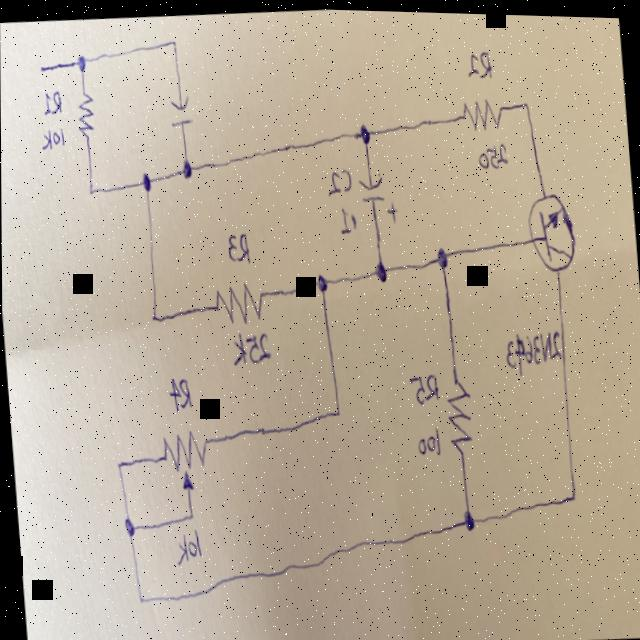capacitor: (355, 166, 398, 223), (164, 88, 194, 131)
junction: (306, 259, 337, 303), (427, 230, 454, 275), (367, 245, 395, 287), (133, 154, 158, 199), (456, 496, 481, 540), (117, 506, 143, 544), (142, 294, 165, 335), (559, 470, 582, 511), (174, 146, 196, 185), (128, 583, 150, 618), (70, 42, 90, 80), (110, 443, 130, 481), (354, 112, 374, 148), (326, 391, 346, 425), (82, 170, 101, 205), (163, 28, 181, 56), (517, 86, 533, 116), (181, 501, 198, 525)
resistor: (158, 424, 209, 492), (443, 367, 475, 456), (210, 277, 266, 326), (455, 89, 504, 131), (70, 85, 96, 142)
terminal: (28, 50, 54, 80)
text: (500, 320, 561, 374), (226, 325, 272, 371), (406, 363, 439, 406), (321, 156, 355, 197), (464, 34, 493, 81), (220, 224, 252, 266), (172, 524, 203, 566), (412, 419, 442, 462), (474, 133, 510, 167), (165, 369, 191, 414), (35, 122, 66, 154), (331, 200, 357, 236), (39, 84, 63, 119)
transistor: (515, 179, 579, 280)
